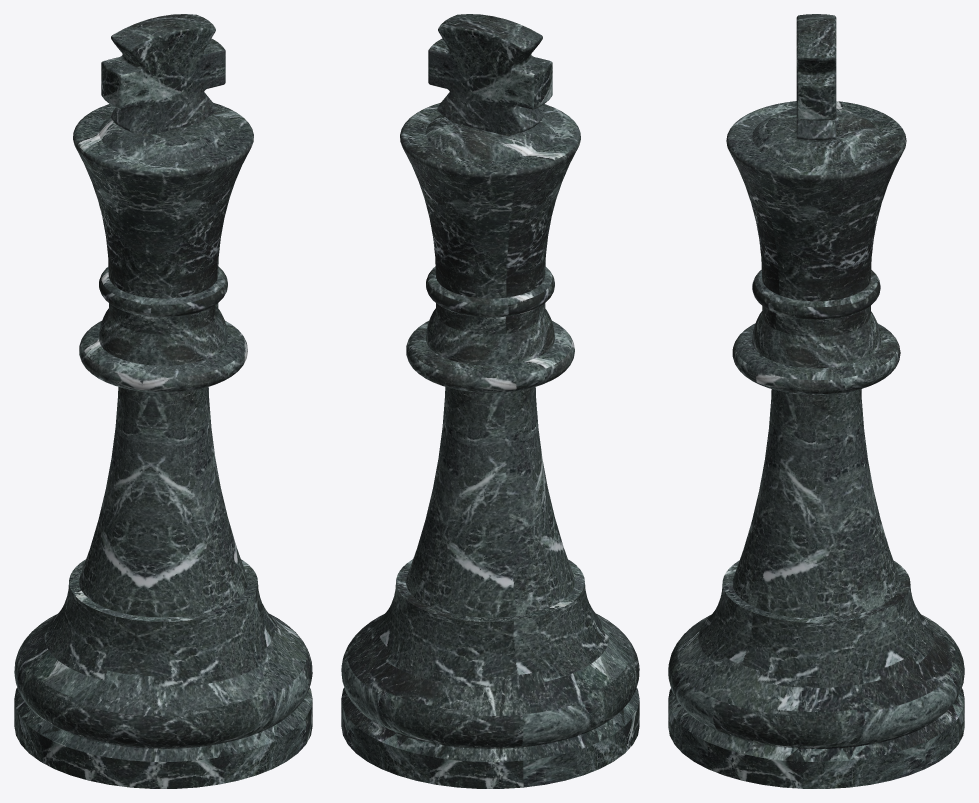
File: Black-King.glb
The picture shows the model from 3 angles, left to right: view 1: azimuth 30°, elevation 25°; view 2: azimuth 150°, elevation 25°; view 3: azimuth 270°, elevation 25°; orthographic projection.
Parts seen in each view (by area): view 1: ASSET_Joined; view 2: ASSET_Joined; view 3: ASSET_Joined.
Part boxes in pixels (x1=…): ASSET_Joined: x1=14, y1=14, x2=312, y2=788; ASSET_Joined: x1=341, y1=14, x2=639, y2=788; ASSET_Joined: x1=668, y1=14, x2=964, y2=788.
Size of the model in its own units: 23.07 by 60 by 23.08.
Materials: 1 (1 with a texture image).
